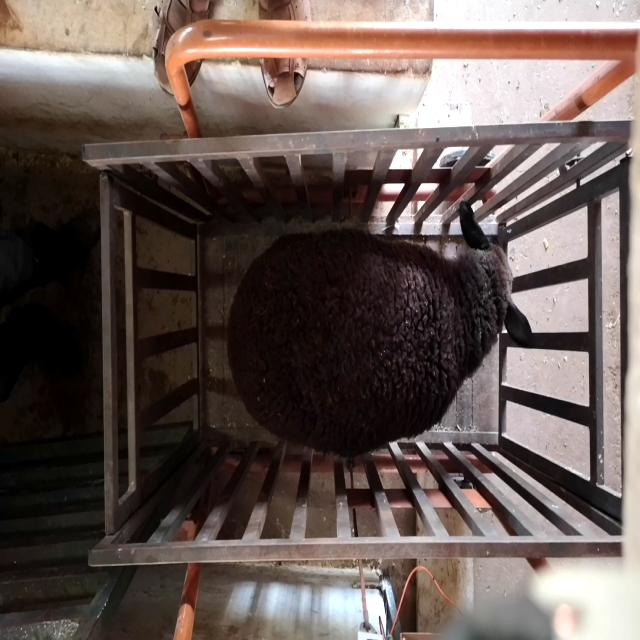sheep: (227, 200, 533, 462)
